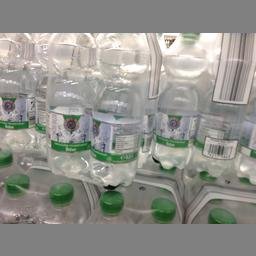water: (87, 32, 150, 187), (148, 32, 204, 165), (42, 32, 92, 177), (0, 32, 37, 153)
